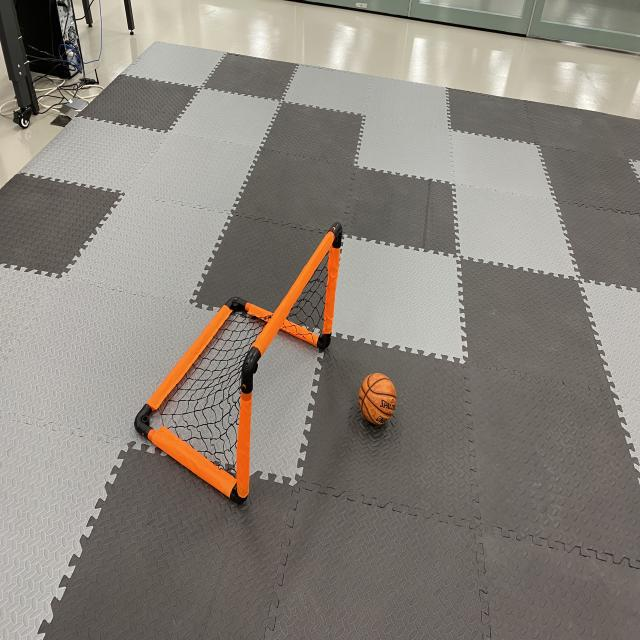ball: (356, 368, 400, 433)
gate: (130, 214, 347, 516)
